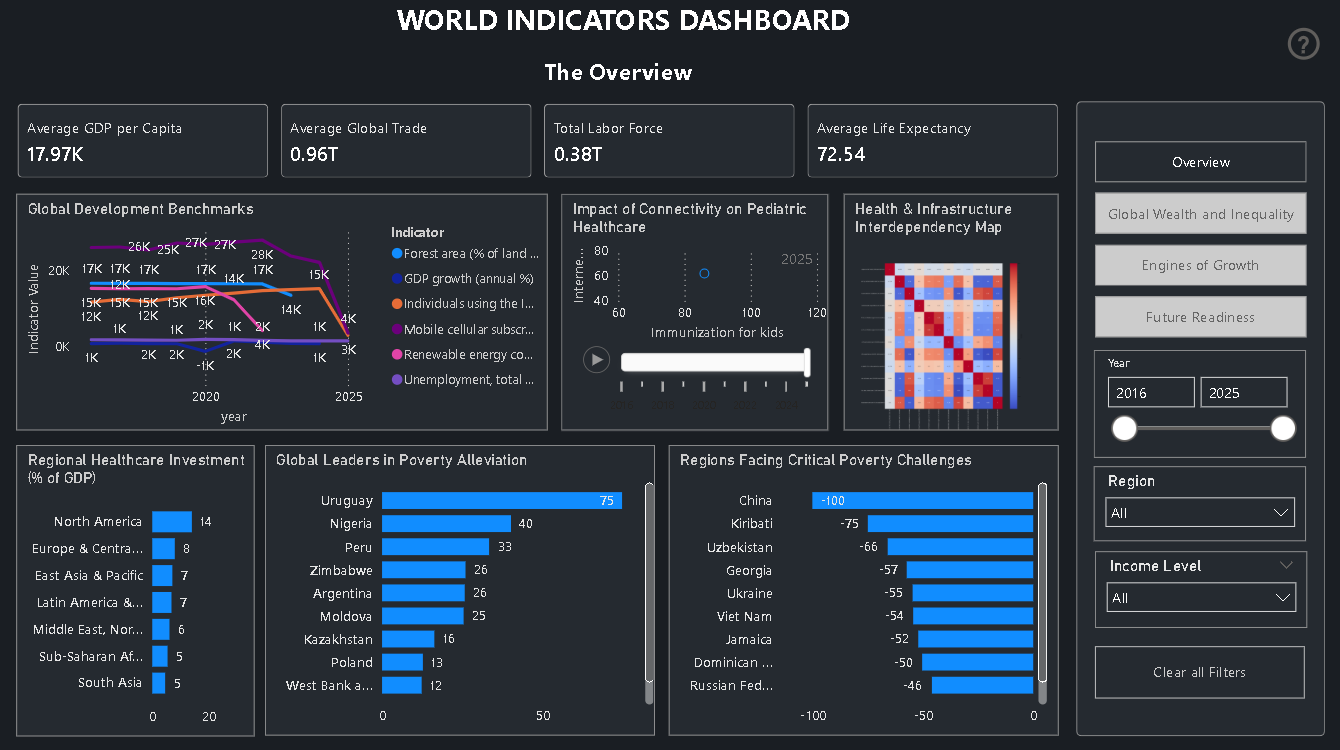

The dashboard page shown, as its layout file describes it:
{"tool":"powerbi","page":{"name":"Overview","canvas":[1280,720],"ordinal":0},"visuals":[{"type":"textbox","box":[376.2,0,447.5,52.5],"z":0},{"type":"clusteredBarChart","title":"Regional Healthcare Investment (% of GDP)","fields":{"Y":["Avg(Append.Current health expenditure (% of GDP))"],"Category":["Append.region"]},"box":[20.2,427.4,226.8,276.7],"z":1000},{"type":"lineChart","title":"Global Development Benchmarks","fields":{"Series":["line chart.indicator_name"],"Y":["Sum(line chart.value)"],"Category":["line chart.year"]},"box":[20,188.8,505,225],"z":2000},{"type":"clusteredBarChart","title":"Regions Facing Critical Poverty Challenges","fields":{"Y":["MeasureTable.Poverty Reduction %"],"Category":["Append.country_value"]},"box":[640,427.5,370,276.2],"z":3000},{"type":"clusteredBarChart","title":"Global Leaders in Poverty Alleviation","fields":{"Y":["MeasureTable.Poverty Reduction %"],"Category":["Append.country_value"]},"box":[256.2,427.5,370,276.2],"z":4000},{"type":"pythonVisual","title":"Health & Infrastructure Interdependency Map","fields":{"Values":["health.indicator_name","health.country_value","health.value","health.year"]},"box":[806.2,188.8,203.8,225],"z":5000},{"type":"shape","box":[1027.1,100.9,236.3,603.2],"z":6000},{"type":"slicer","fields":{"Values":["Append.region"]},"box":[1043.7,447.6,201.9,71.2],"z":7000},{"type":"slicer","fields":{"Values":["Append.year"]},"box":[1043.7,337.2,201.9,102.1],"z":8000},{"type":"slicer","fields":{"Values":["Append.incomeLevel"]},"box":[1044.9,528.4,201.9,72.4],"z":9000},{"type":"textbox","box":[516.2,52.5,167.5,45],"z":10000},{"type":"cardVisual","fields":{"Data":["MeasureTable.Avg GDP per Capita","Avg(trade.value)","Sum(Append.Labor force, total)","Avg(Append.Life expectancy at birth, total (years))"]},"box":[16.2,98.8,1000,80],"z":11000},{"type":"scatterChart","title":"Impact of Connectivity on Pediatric Healthcare","fields":{"X":["MeasureTable.Immunization for kids"],"Y":["MeasureTable.Internet Penetration"],"Category":["Append.year"],"Play":["Append.year"],"Size":["Sum(Append.GDP per capita (current US$))"]},"box":[537.5,188.8,253.8,225],"z":12000},{"type":"pageNavigator","box":[1044.9,138.9,201.9,188.8],"z":13000},{"type":"actionButton","box":[1044.9,618.6,199.5,49.9],"z":14000},{"type":"actionButton","box":[1223,26.1,40.4,40.4],"z":15000}]}

Visuals, with their boxes in screenshot pixels (x1, y1, x2, y2), scaled from the page's 1280x720 canvas onto the 1340x750 screenshot:
textbox: <box>394,0,862,55</box>
"Regional Healthcare Investment (% of GDP)" clusteredBarChart: <box>21,445,259,733</box>
"Global Development Benchmarks" lineChart: <box>21,197,550,431</box>
"Regions Facing Critical Poverty Challenges" clusteredBarChart: <box>670,445,1057,733</box>
"Global Leaders in Poverty Alleviation" clusteredBarChart: <box>268,445,656,733</box>
"Health & Infrastructure Interdependency Map" pythonVisual: <box>844,197,1057,431</box>
shape: <box>1075,105,1323,733</box>
slicer - Append.region: <box>1093,466,1304,540</box>
slicer - Append.year: <box>1093,351,1304,458</box>
slicer - Append.incomeLevel: <box>1094,550,1305,626</box>
textbox: <box>540,55,716,102</box>
cardVisual - MeasureTable.Avg GDP per Capita x Avg(trade.value): <box>17,103,1064,186</box>
"Impact of Connectivity on Pediatric Healthcare" scatterChart: <box>563,197,828,431</box>
pageNavigator: <box>1094,145,1305,341</box>
actionButton: <box>1094,644,1303,696</box>
actionButton: <box>1280,27,1323,69</box>
